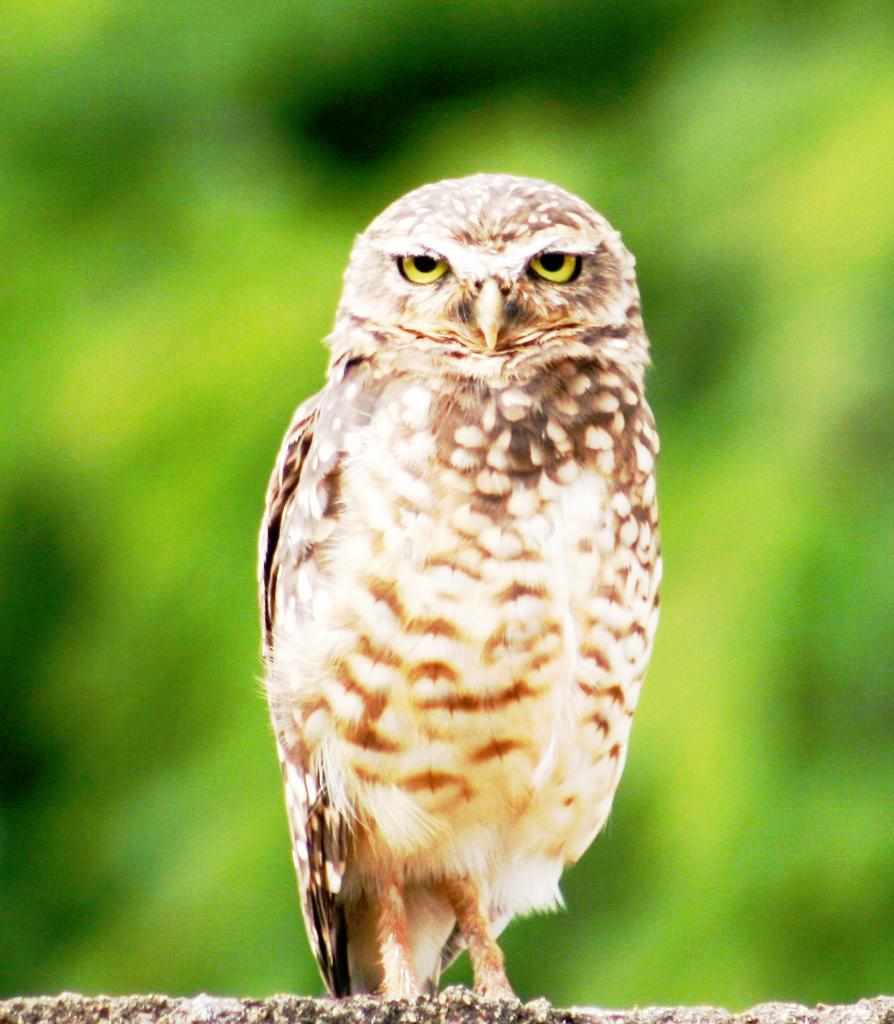Owl: (254, 168, 668, 1000)
